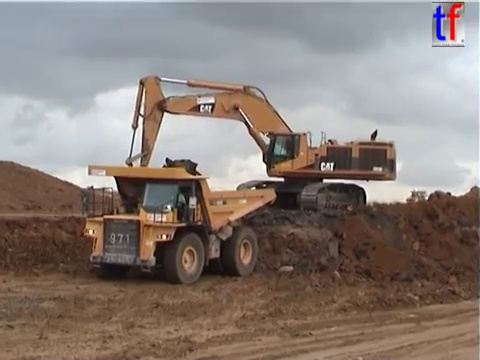excavator: (122, 72, 399, 219)
truck: (77, 162, 279, 285), (405, 188, 429, 206)
